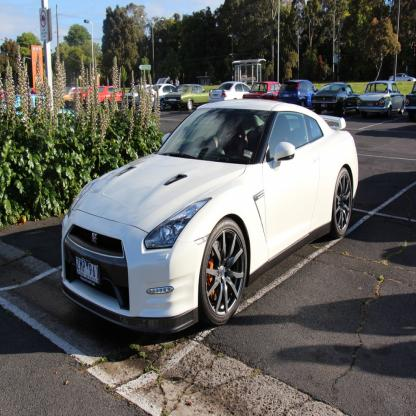Car: (62, 99, 360, 335), (62, 79, 416, 118), (1, 89, 46, 126), (389, 73, 416, 84)
